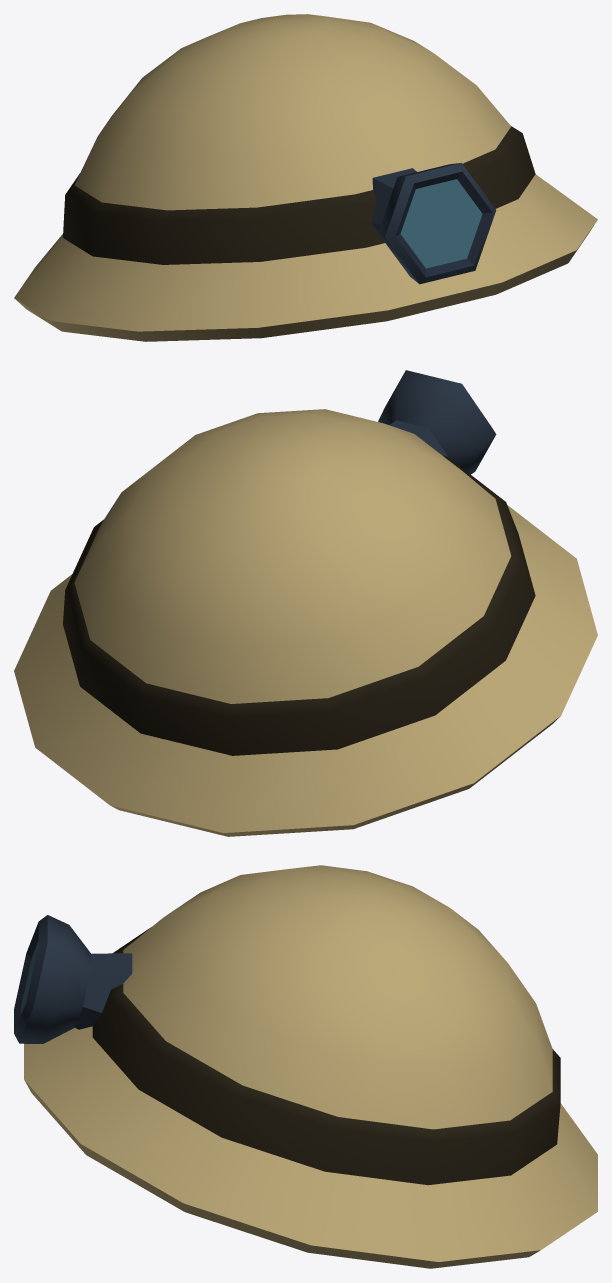
File: Hat2.fbx
The picture shows the model from 3 angles, top to bottom: view 1: azimuth 30°, elevation 25°; view 2: azimuth 150°, elevation 25°; view 3: azimuth 270°, elevation 25°; orthographic projection. The views are drawn at different scales.
Visible parts, largest first — view 1: Hat2_mesh; view 2: Hat2_mesh; view 3: Hat2_mesh.
Boxes of the visible parts, x1=… form: Hat2_mesh: x1=14, y1=14, x2=597, y2=341; Hat2_mesh: x1=14, y1=370, x2=597, y2=836; Hat2_mesh: x1=14, y1=865, x2=597, y2=1268.
Bounding box in the file's own units: 34.51 × 19.06 × 33.18.
